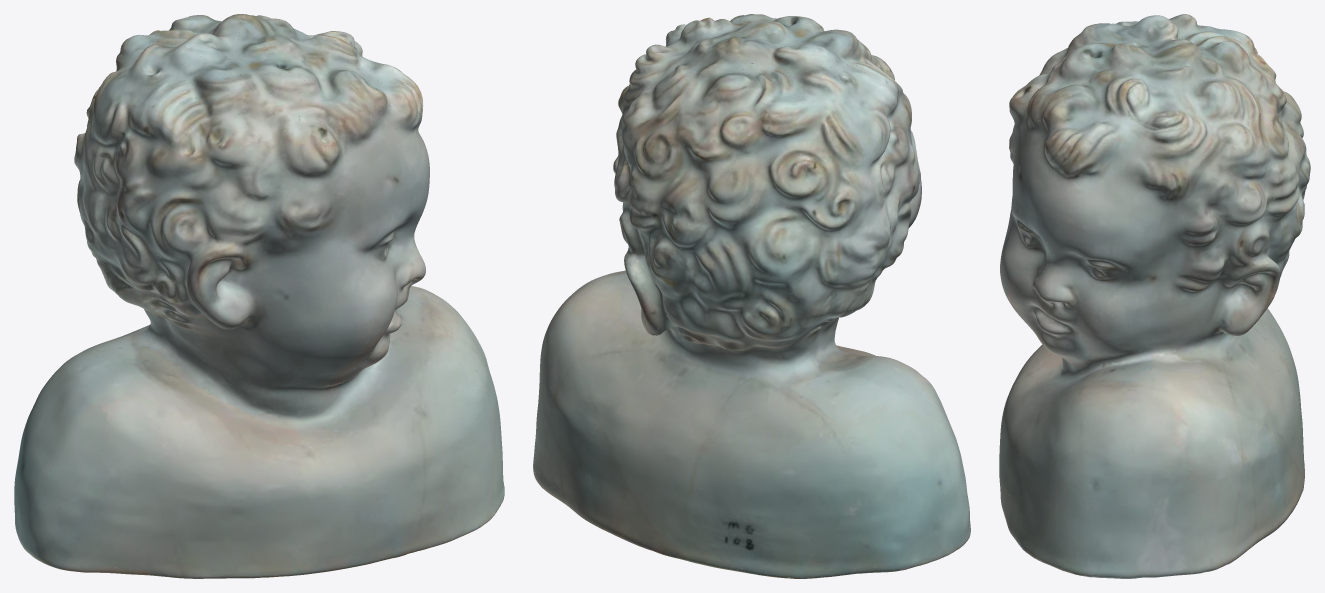
The model's file is 石膏头像_男童_石膏头像_0328_opt.glb.
3 renders of one model, left to right at view 1: azimuth 30°, elevation 25°; view 2: azimuth 150°, elevation 25°; view 3: azimuth 270°, elevation 25°, orthographic. The views are drawn at different scales.
Visible parts, largest first — view 1: Object_2; view 2: Object_2; view 3: Object_2.
Part boxes in pixels (x1=…): Object_2: x1=14, y1=14, x2=504, y2=578; Object_2: x1=533, y1=14, x2=970, y2=578; Object_2: x1=999, y1=14, x2=1310, y2=578.
Bounding box in the file's own units: 0.3773 × 0.4 × 0.255.
1 material, 1 textured.
